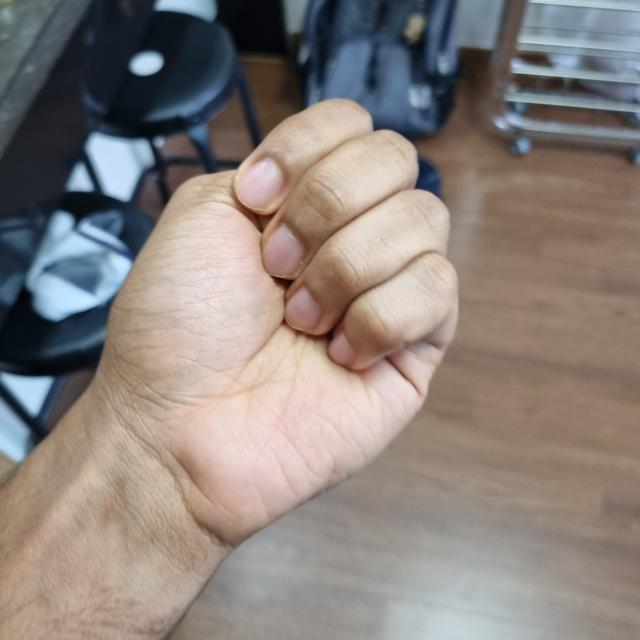Rock: (97, 103, 453, 521)
